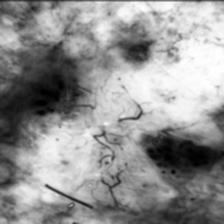Potentially Malignant Skin Tumors: (150, 130, 220, 174), (22, 74, 88, 118)
